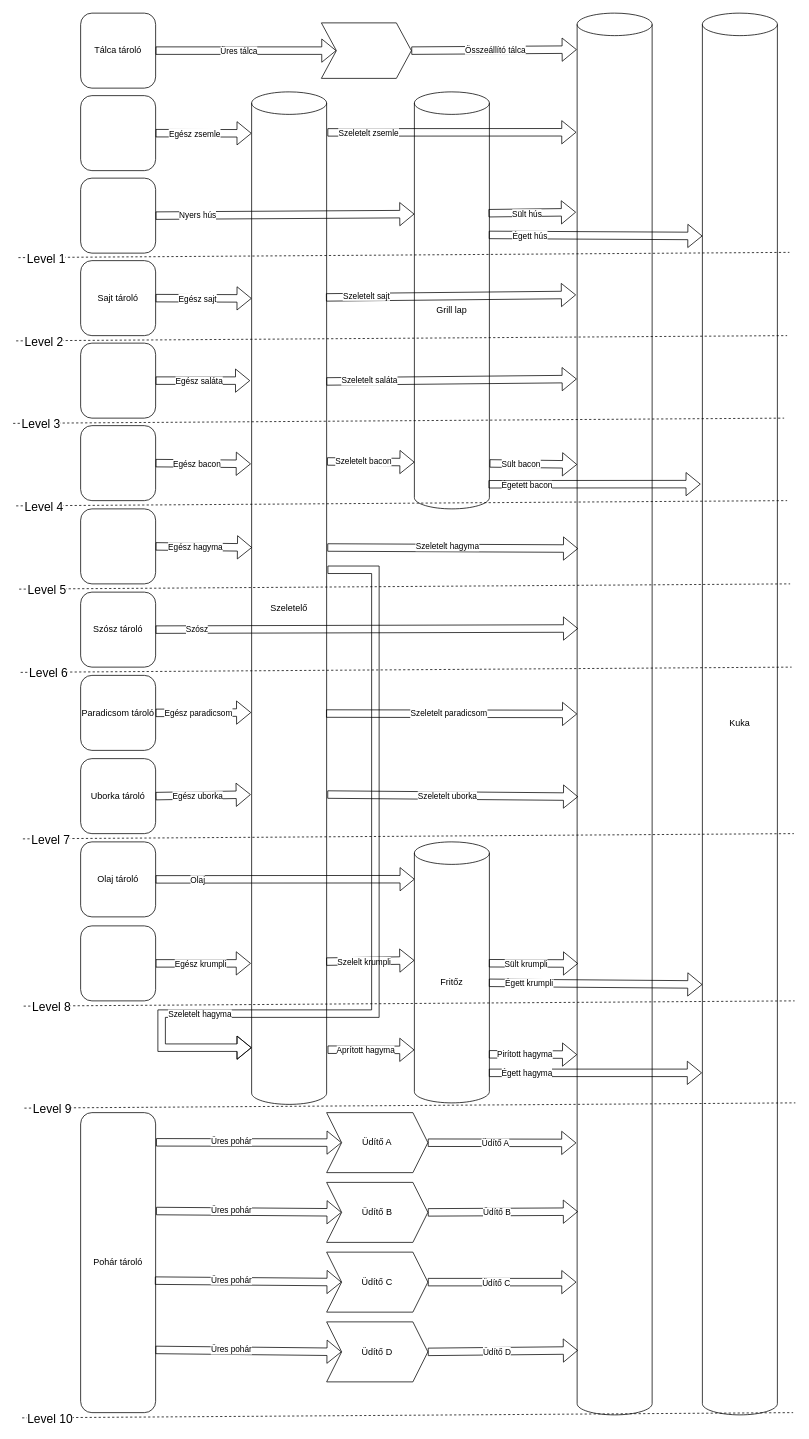
Some shapes in this 809 by 1439 pixel diagram are drawn without their labels. Here are the shapes that lost their labels. From the top down, the box of each, then its label:
(321, 22, 411, 78): Rendelés kiválasztása
(80, 95, 156, 171): Zsembe tároló
(80, 177, 156, 253): Hús tároló
(80, 342, 156, 418): Saláta tároló
(80, 425, 156, 501): Bacon tároló
(80, 508, 156, 584): Hagyma tároló
(576, 12, 652, 1415): Összeállító
(80, 925, 156, 1001): Krumpli tároló
